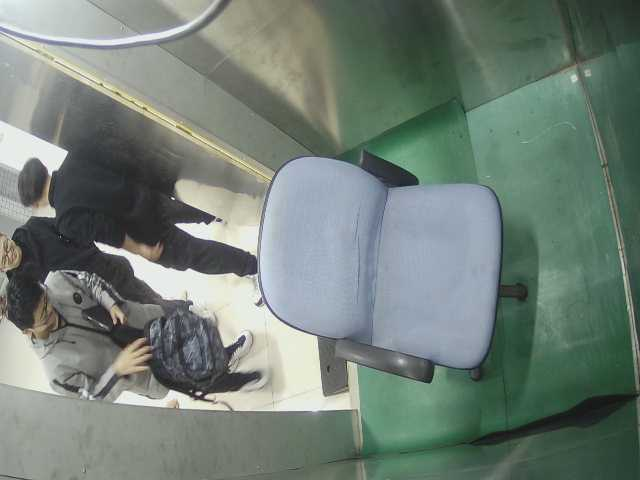chair: (251, 140, 531, 388)
person: (4, 271, 268, 406)
